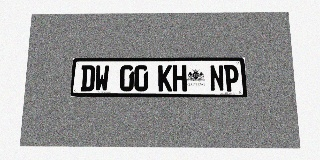0: (120, 65, 134, 91), (134, 65, 148, 91)
D: (80, 65, 95, 91)
H: (173, 65, 187, 91)
K: (158, 65, 172, 91)
N: (209, 65, 224, 91)
P: (224, 65, 239, 91)
W: (95, 65, 109, 91)
